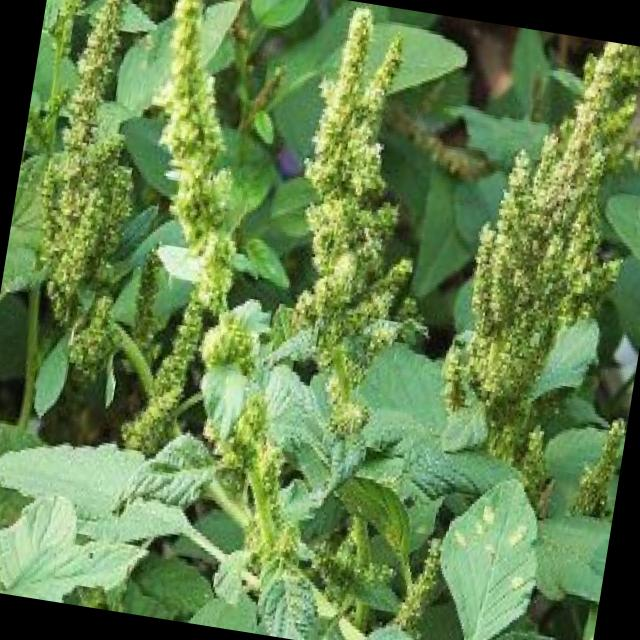Medicinal-Arive Dantu: (200, 7, 523, 640), (398, 26, 640, 640), (0, 0, 295, 464)
